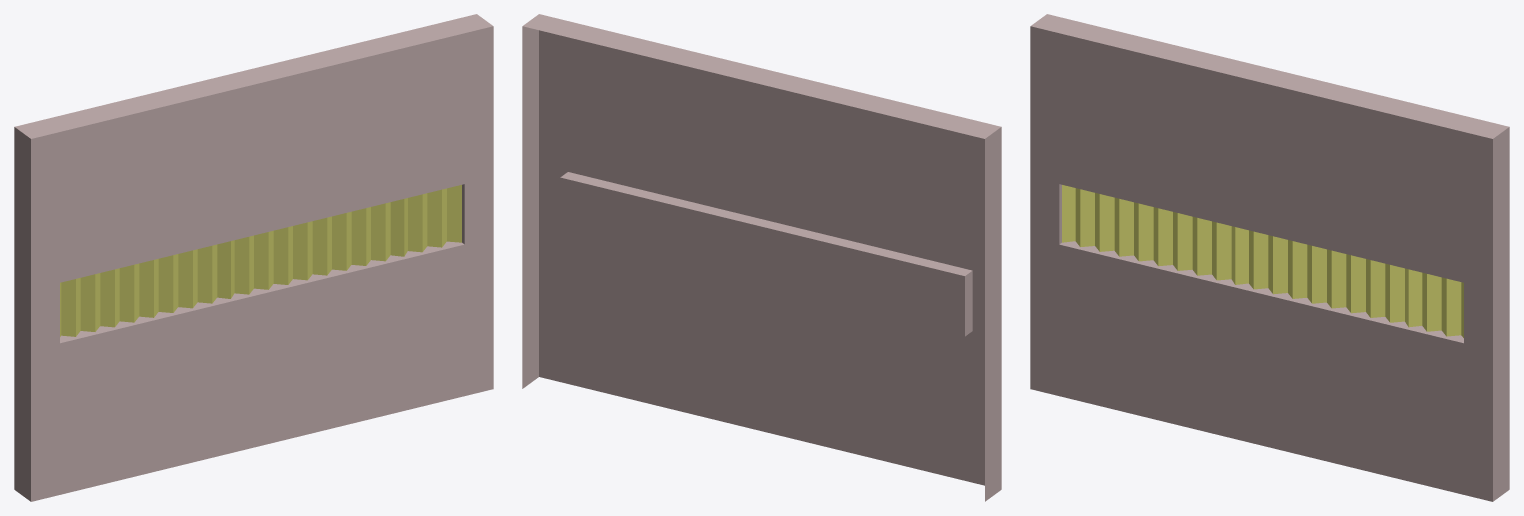
Rendered from BWallL.fbx.
3 views of the same model, side by side, from view 1: azimuth 30°, elevation 25°; view 2: azimuth 150°, elevation 25°; view 3: azimuth 330°, elevation 25° (orthographic).
Parts seen in each view (by area): view 1: BWallL; view 2: BWallL; view 3: BWallL.
Part boxes in pixels (left/top/right/bottom): BWallL: left=14, top=14, right=493, bottom=501; BWallL: left=522, top=14, right=1001, bottom=501; BWallL: left=1030, top=14, right=1509, bottom=501.
Bounding box in the file's own units: 800 × 600 × 50.
